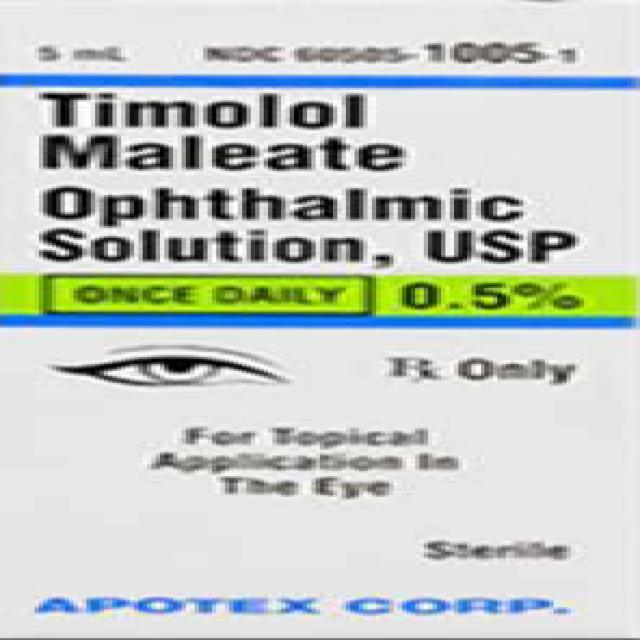drug-name: (30, 84, 541, 228)
